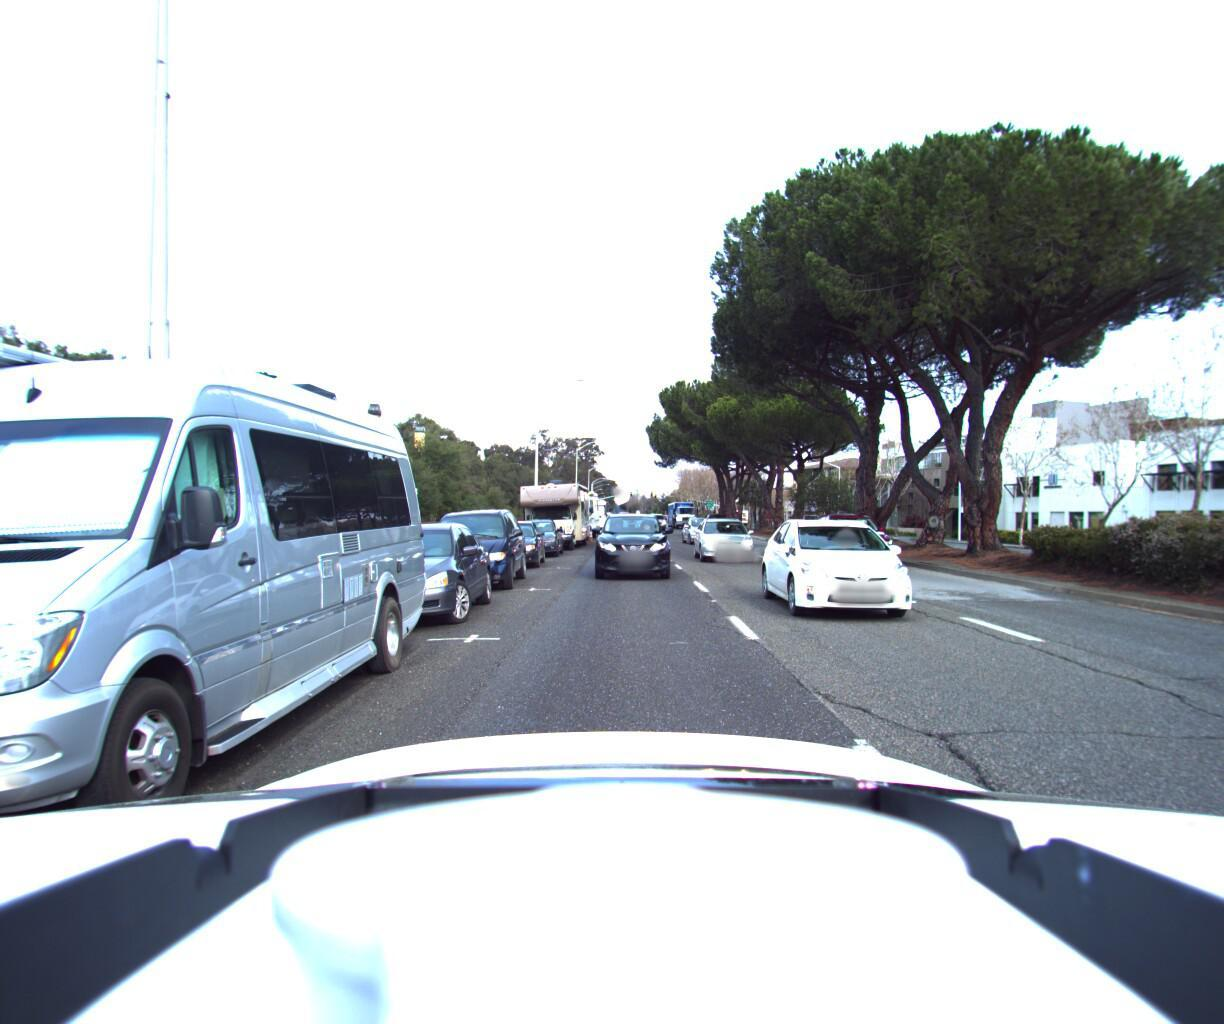car: (763, 514, 970, 644), (315, 524, 500, 640), (411, 508, 531, 599), (817, 520, 924, 580), (592, 513, 674, 585), (692, 515, 764, 569), (479, 522, 548, 574), (506, 519, 564, 562), (678, 517, 730, 550)
other_vehicle: (516, 482, 590, 553), (541, 485, 598, 544)
truck: (575, 499, 605, 533)
